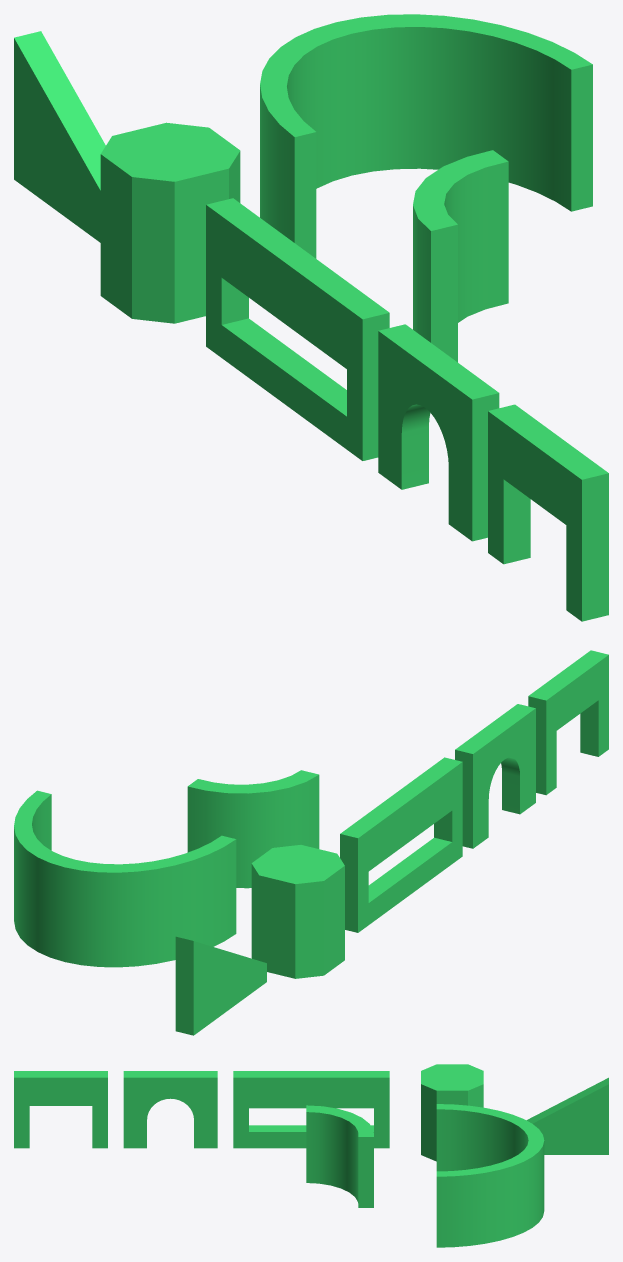
File: TempA_AdditionalWalls_Low.fbx
3 views of the same model, one above another, from view 1: azimuth 30°, elevation 25°; view 2: azimuth 150°, elevation 25°; view 3: azimuth 270°, elevation 25° (orthographic). The views are drawn at different scales.
Visible parts, largest first — view 1: TempA_CurvedWall_01, TempA_ThickWall_06, TempA_Pillar_03, TempA_Entrance_02, TempA_Entrance_01, TempA_CurvedWall_02, TempA_SlantedWall_01; view 2: TempA_CurvedWall_01, TempA_ThickWall_06, TempA_Pillar_03, TempA_CurvedWall_02, TempA_Entrance_01, TempA_Entrance_02, TempA_SlantedWall_01; view 3: TempA_CurvedWall_01, TempA_ThickWall_06, TempA_CurvedWall_02, TempA_Entrance_01, TempA_Entrance_02, TempA_SlantedWall_01, TempA_Pillar_03.
Part boxes in pixels (x1,y1,x2,y2): TempA_CurvedWall_01: [260, 14, 592, 258]; TempA_ThickWall_06: [206, 198, 389, 460]; TempA_Pillar_03: [100, 122, 240, 323]; TempA_Entrance_02: [488, 404, 608, 621]; TempA_Entrance_01: [378, 324, 499, 541]; TempA_CurvedWall_02: [413, 150, 508, 362]; TempA_SlantedWall_01: [14, 31, 105, 242]; TempA_CurvedWall_01: [14, 790, 236, 967]; TempA_ThickWall_06: [340, 757, 462, 932]; TempA_Pillar_03: [251, 845, 344, 978]; TempA_CurvedWall_02: [187, 770, 319, 888]; TempA_Entrance_01: [455, 704, 535, 848]; TempA_Entrance_02: [528, 650, 608, 795]; TempA_SlantedWall_01: [175, 936, 266, 1035]; TempA_CurvedWall_01: [436, 1104, 544, 1247]; TempA_ThickWall_06: [233, 1071, 389, 1148]; TempA_CurvedWall_02: [306, 1105, 373, 1207]; TempA_Entrance_01: [123, 1071, 217, 1148]; TempA_Entrance_02: [14, 1071, 107, 1148]; TempA_SlantedWall_01: [526, 1077, 608, 1154]; TempA_Pillar_03: [421, 1064, 483, 1161].
Size of the model in its own units: 17 by 5 by 38.
